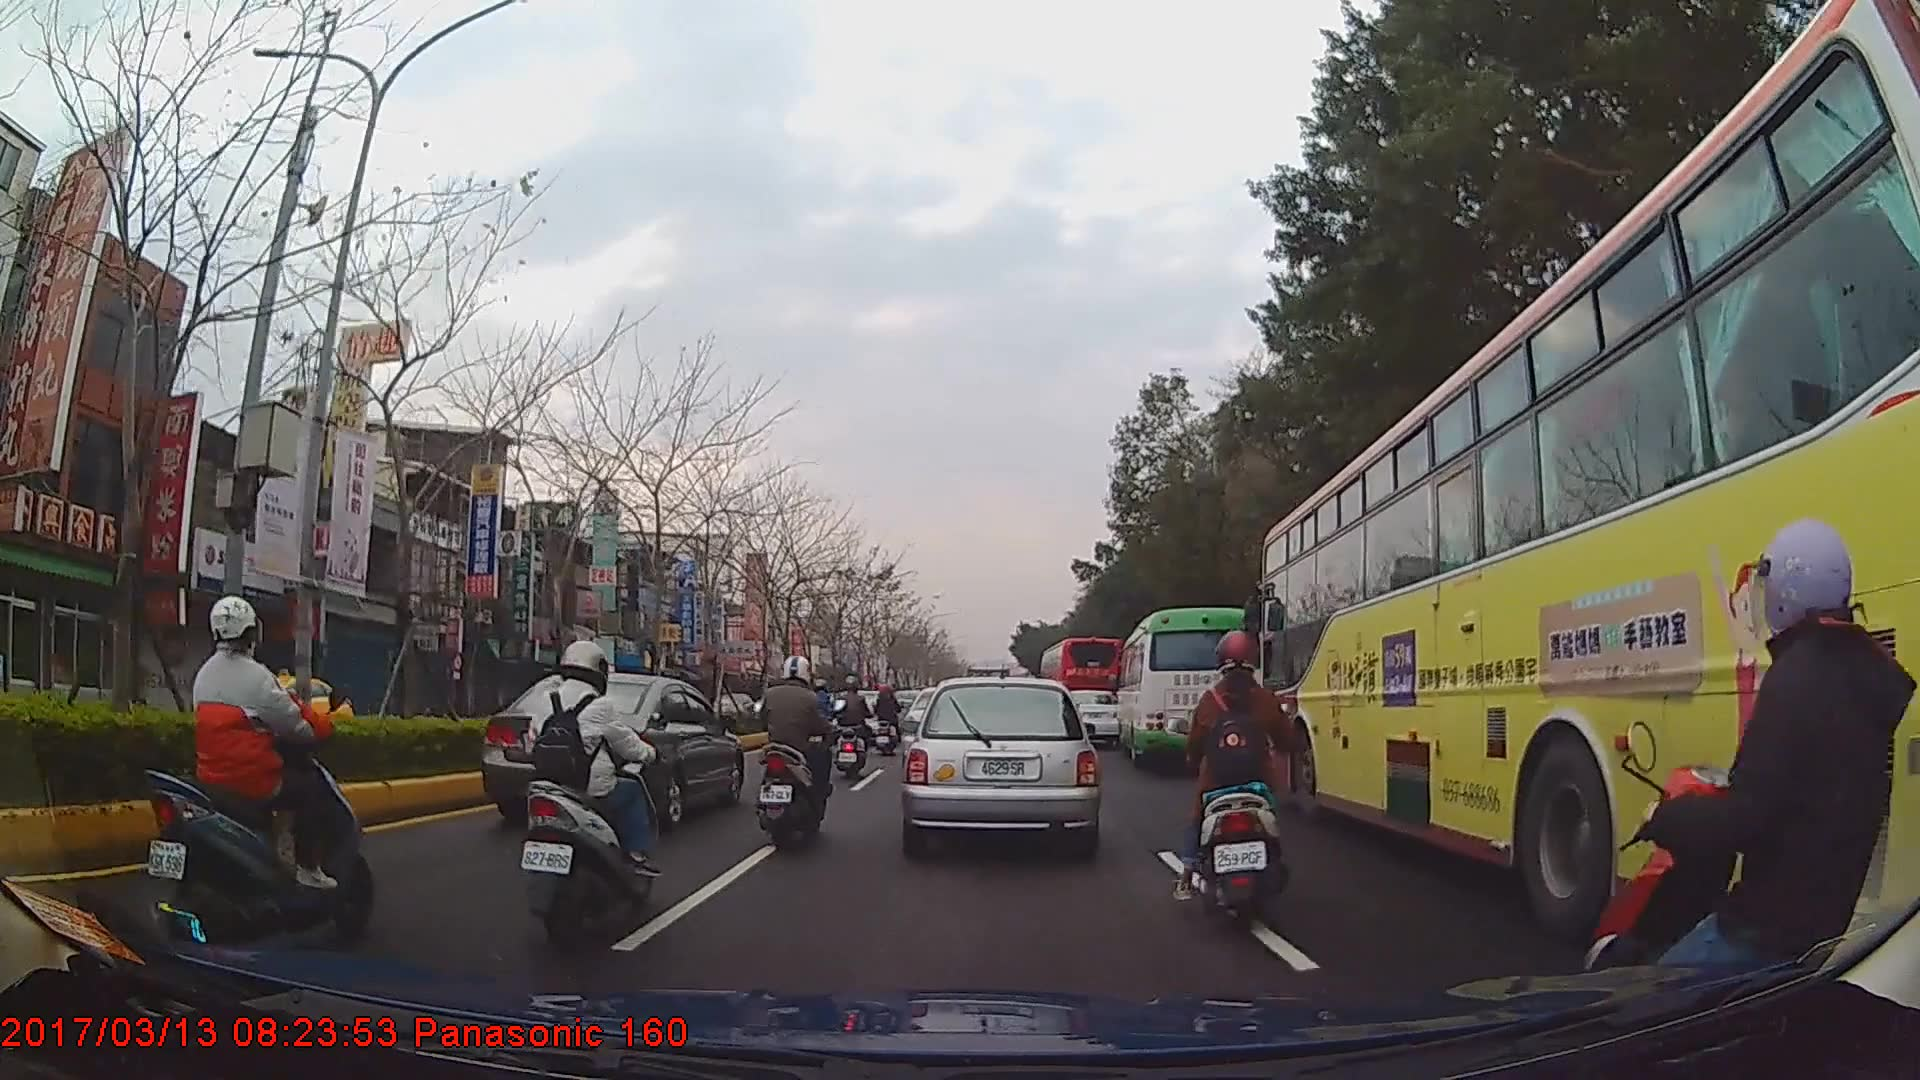rider: (1583, 520, 1920, 1056), (142, 591, 376, 959), (517, 635, 658, 950), (1160, 630, 1298, 930), (750, 654, 835, 852), (833, 676, 874, 779), (874, 681, 902, 756)
vehicle: (1259, 0, 1920, 942), (478, 674, 742, 827), (903, 671, 1098, 853), (1115, 604, 1262, 769), (201, 662, 358, 743), (1040, 633, 1126, 737)
